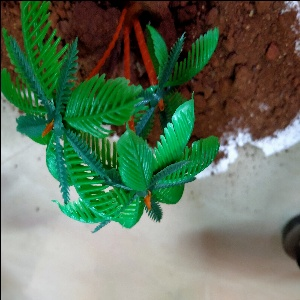plant: (2, 1, 225, 235)
